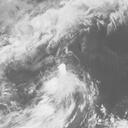cyclone: (41, 68, 84, 105)
